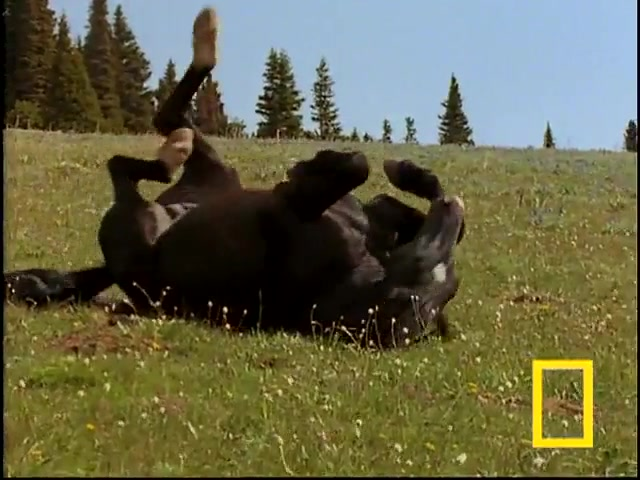horse: (1, 7, 468, 347)
